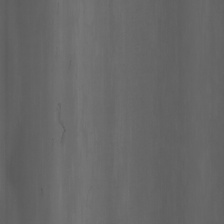water_spot: (53, 95, 70, 150)
